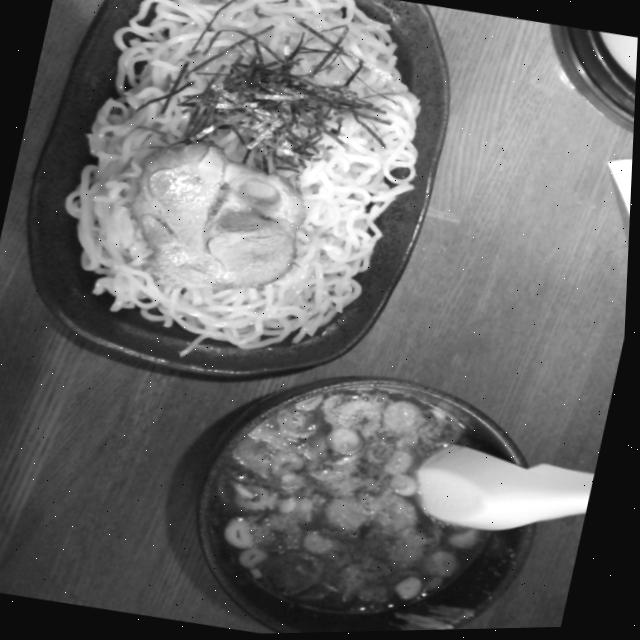面条主食: (29, 0, 467, 383)
